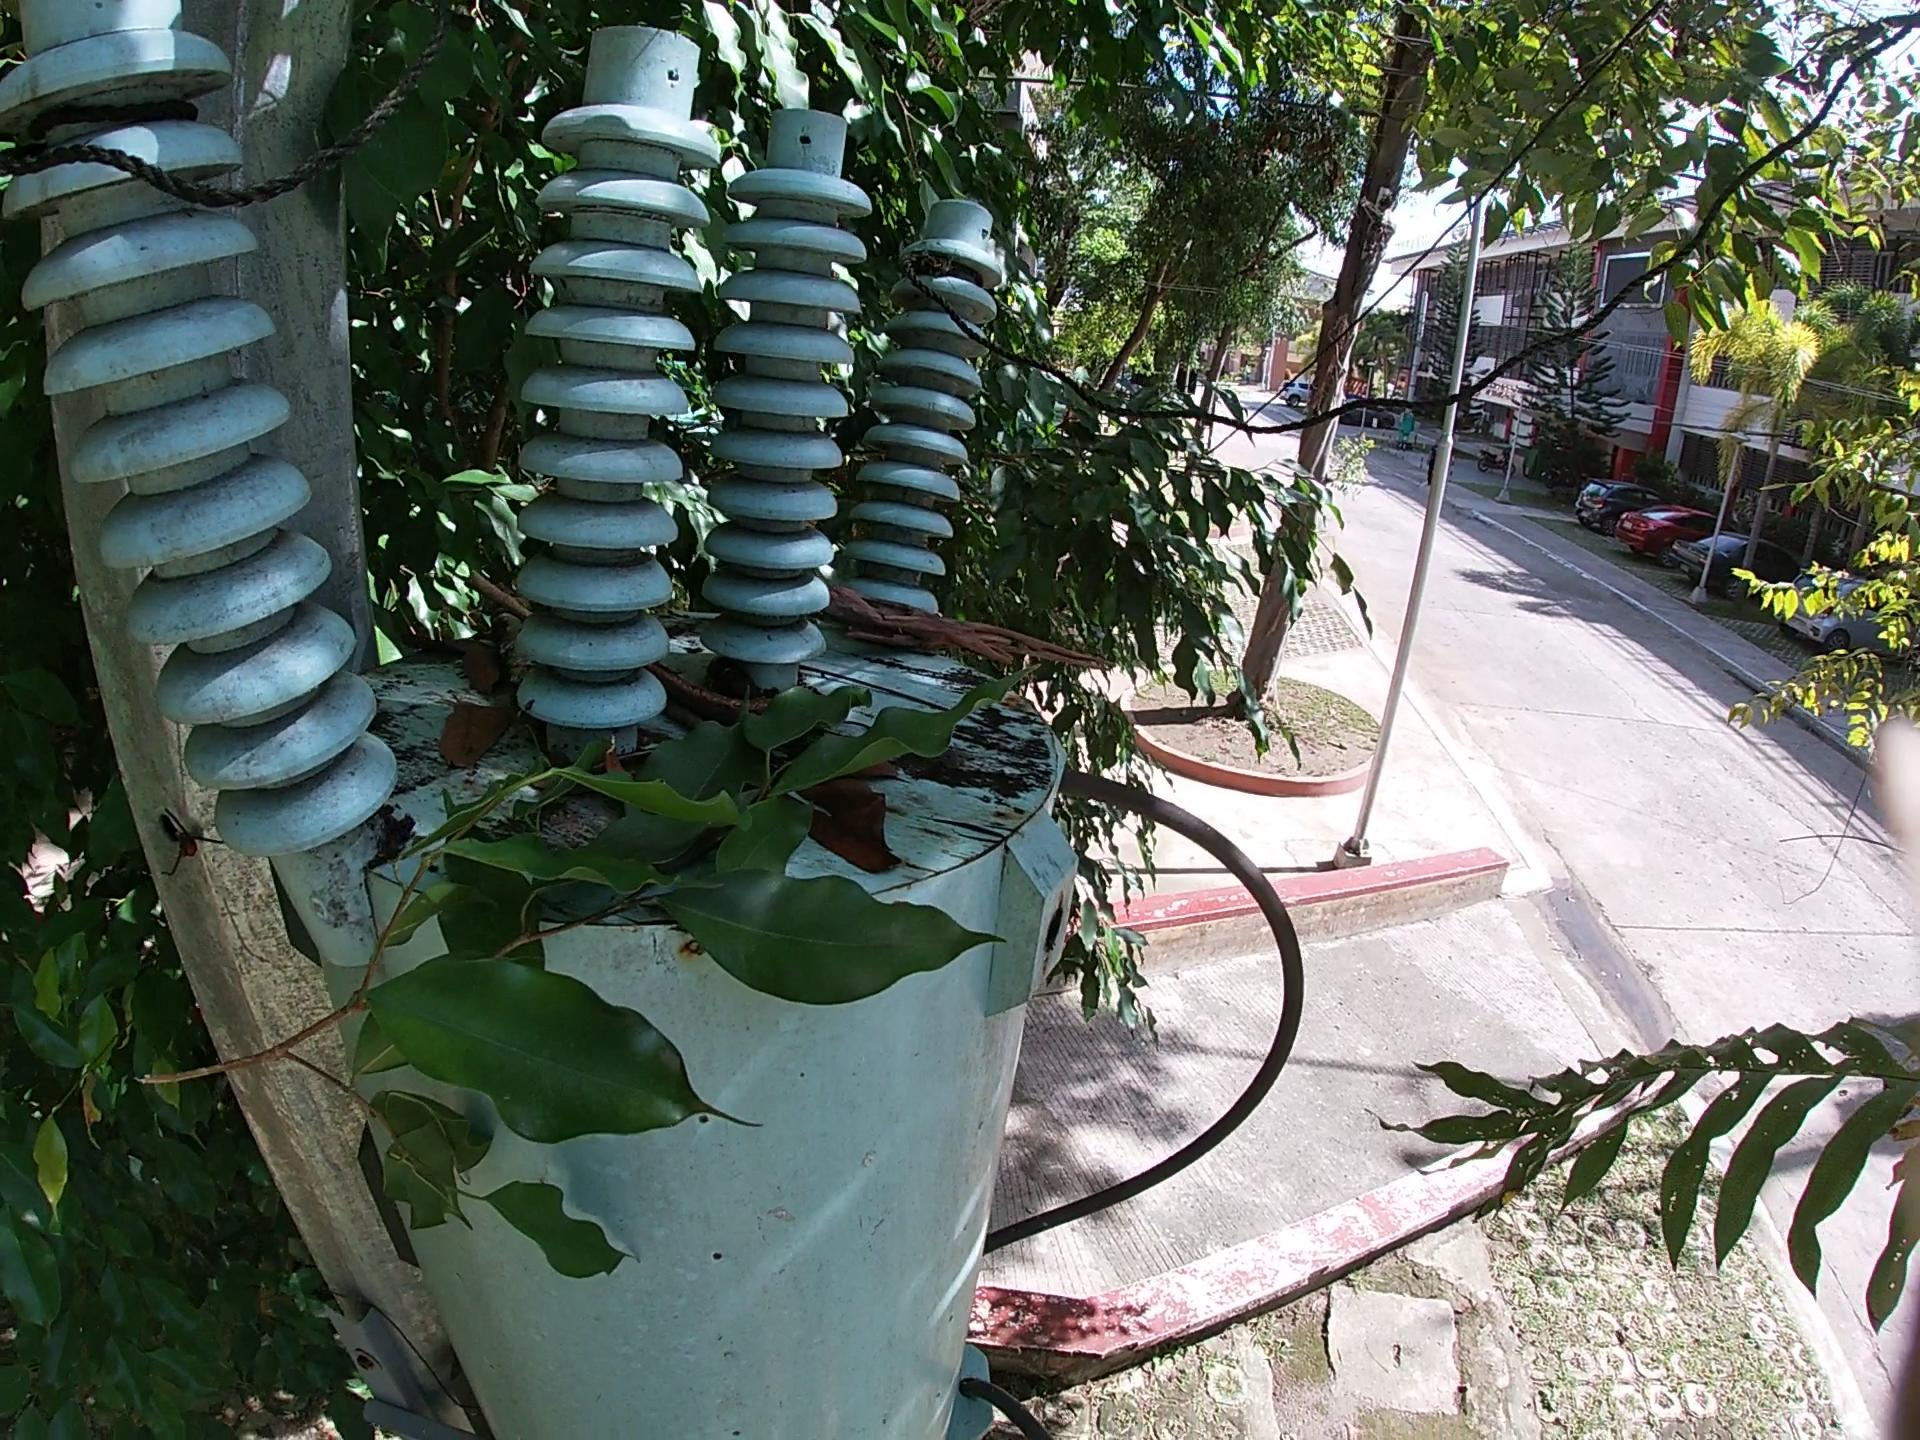branch with leaves: (125, 663, 1042, 1277)
leaf: (777, 799, 903, 874), (437, 688, 514, 782), (800, 770, 892, 846), (460, 638, 505, 696), (836, 759, 916, 782)
mahogany fruit: (649, 656, 773, 728)
tree branch: (809, 576, 1114, 684), (461, 570, 534, 623)
